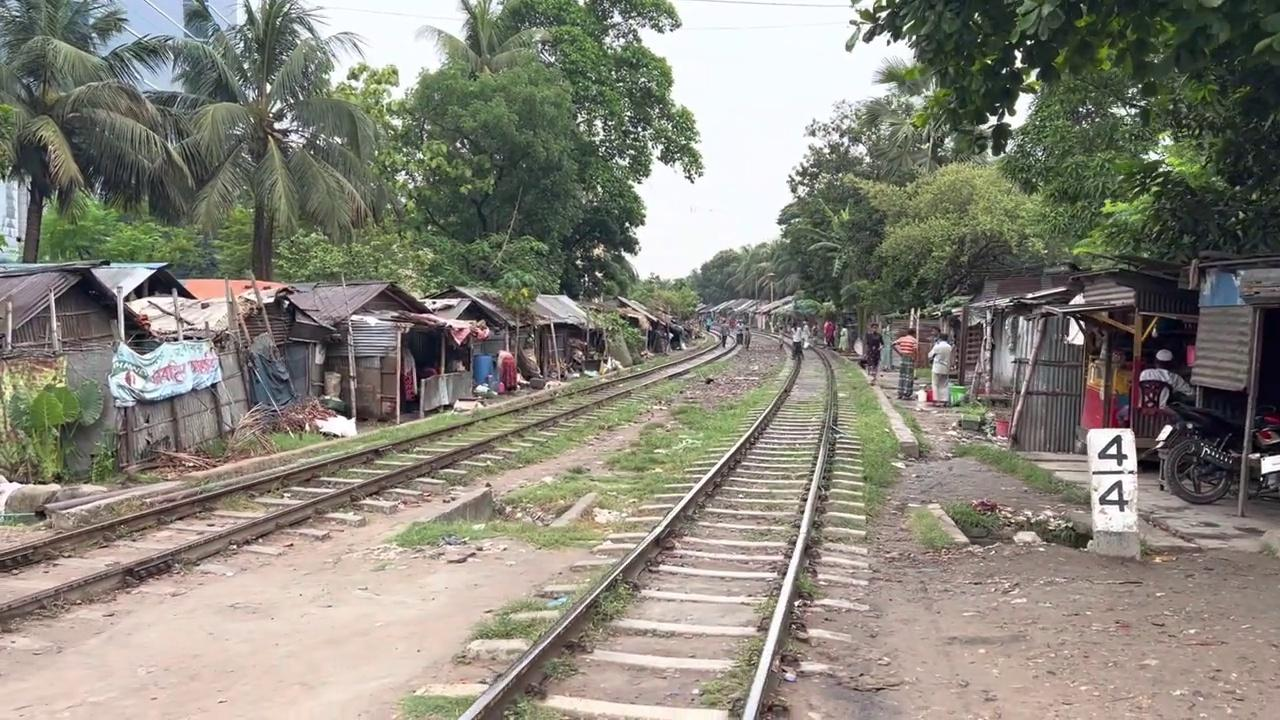Curb: (1155, 394, 1279, 505)
Fence: (926, 332, 952, 406)
Motorcycle: (1, 322, 787, 718), (457, 328, 866, 718)
Pothole: (1074, 408, 1150, 568)
Railroad-crossing: (139, 0, 391, 283), (0, 0, 182, 263)
